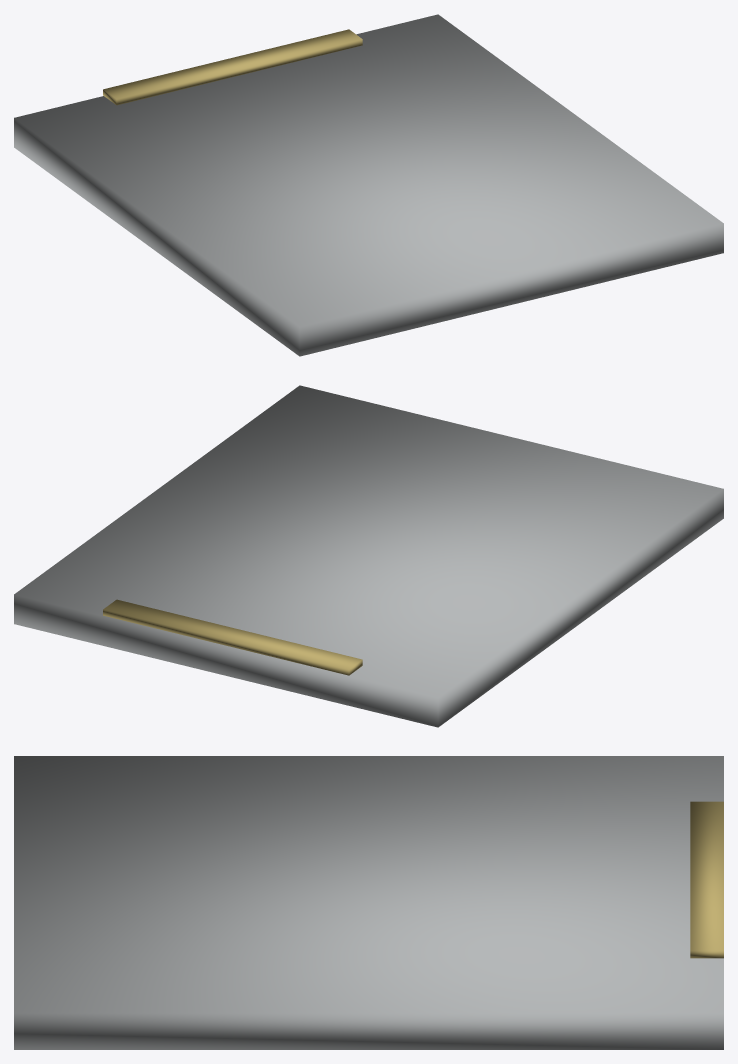
File: floor_w180_d210_open.glb
3 views of the same model, one above another, from view 1: azimuth 30°, elevation 25°; view 2: azimuth 150°, elevation 25°; view 3: azimuth 270°, elevation 25° (orthographic). The views are drawn at different scales.
Visible parts, largest first — view 1: world; view 2: world; view 3: world.
Boxes of the visible parts, x1=… form: world: x1=14, y1=14, x2=723, y2=356; world: x1=14, y1=385, x2=723, y2=727; world: x1=14, y1=756, x2=723, y2=1049.
Size of the model in its own units: 1.8 by 0.1475 by 2.1.
